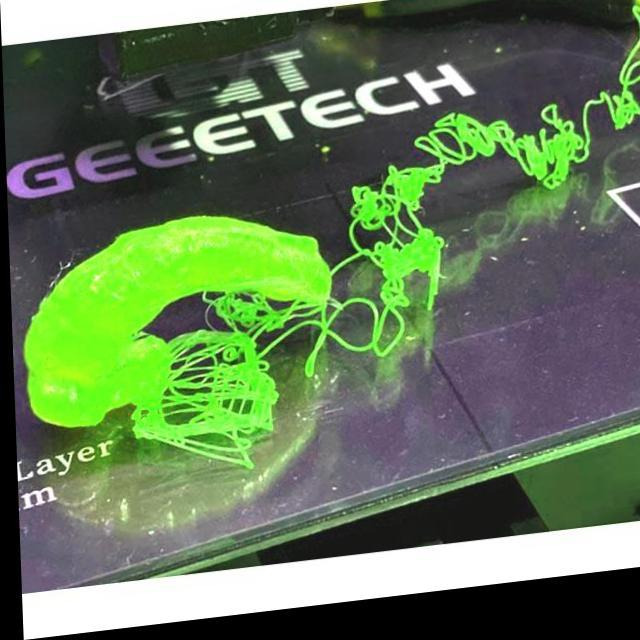spaghetti: (341, 19, 640, 328), (120, 278, 410, 489)
